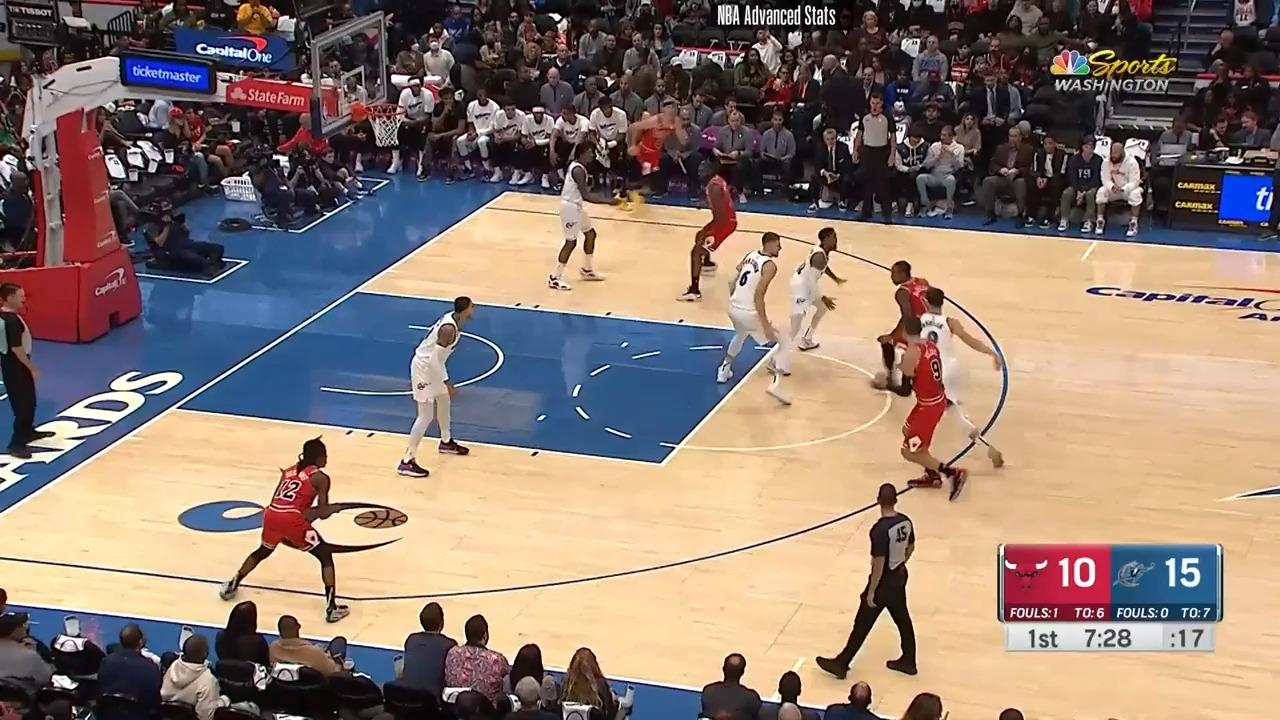net: (343, 97, 407, 149)
player: (219, 440, 350, 624), (871, 311, 970, 502), (917, 287, 1004, 475), (403, 293, 485, 477), (715, 228, 796, 409), (686, 160, 745, 302), (550, 148, 607, 294), (869, 259, 930, 395), (789, 228, 853, 356)
referee: (818, 484, 925, 686), (0, 278, 42, 465), (847, 96, 898, 226)
